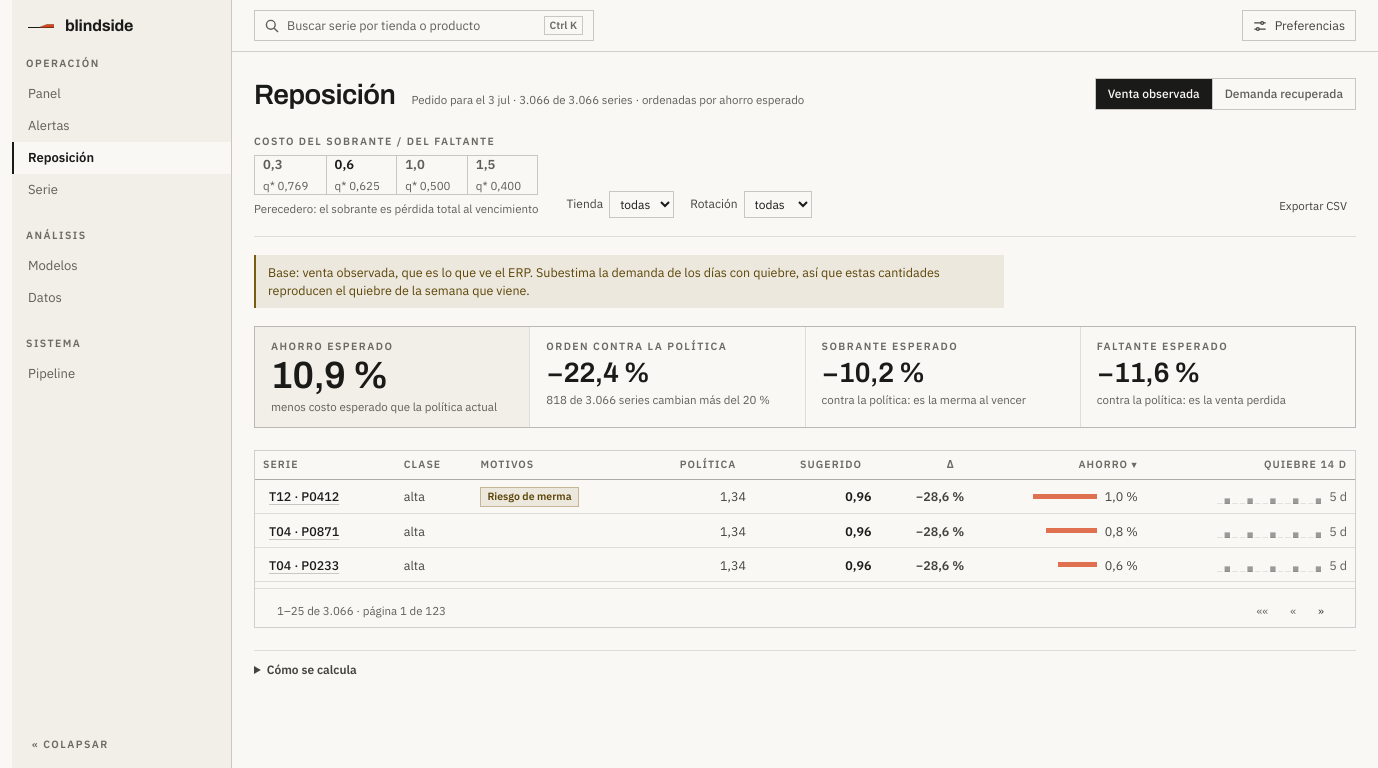
Test: reposición › pagina en el servidor: la página siguiente pide otro offset
Expected: the button "T12 · P0412" is shown, [263, 486, 345, 507]
Click the button named "Página siguiente".
click(1321, 611)  # box [1309, 599, 1333, 623]
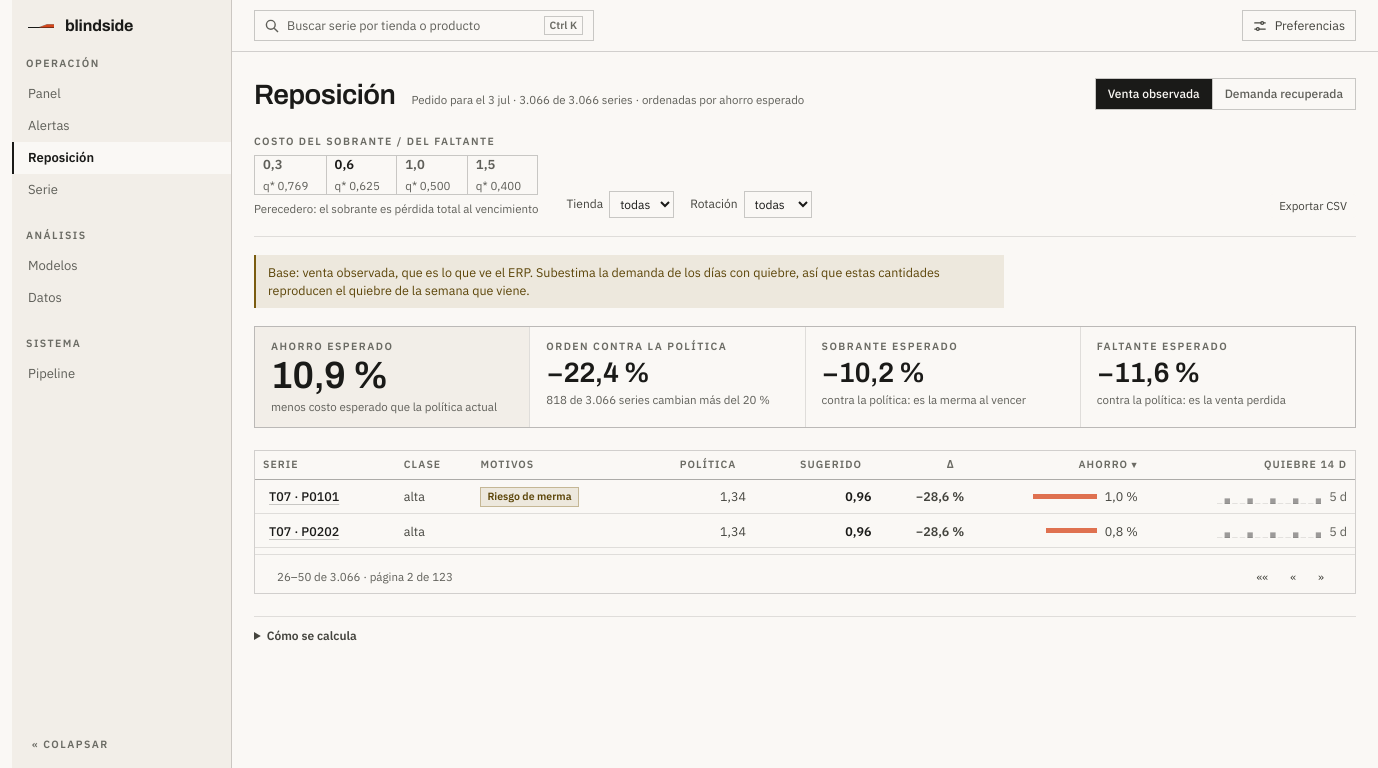
Now the button "T07 · P0101" is shown, box [263, 486, 345, 507]
Now the button "T12 · P0412" is gone
